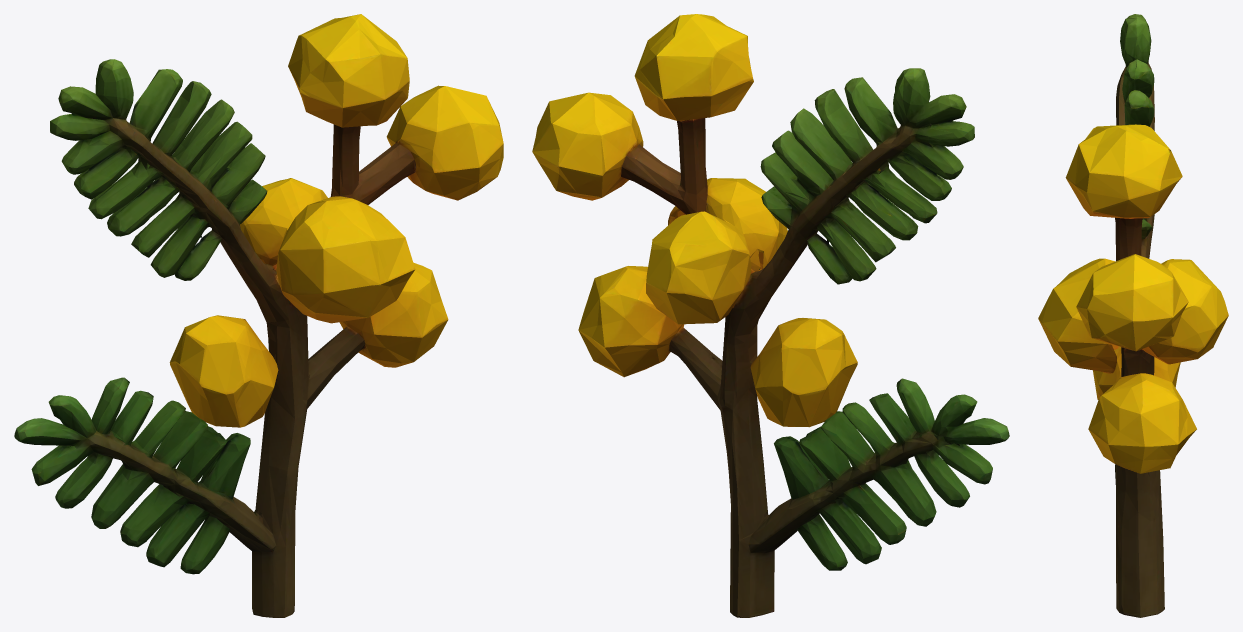
The model's file is acacia_blossom.glb.
3 views of the same model, side by side, from view 1: azimuth 30°, elevation 25°; view 2: azimuth 150°, elevation 25°; view 3: azimuth 270°, elevation 25° (orthographic). The views are drawn at different scales.
Visible parts, largest first — view 1: world; view 2: world; view 3: world.
Boxes of the visible parts, <box> form: world: <box>14,14,503,617</box>; world: <box>532,14,1009,617</box>; world: <box>1038,14,1228,617</box>.
Bounding box in the file's own units: 0.8556 × 0.9991 × 0.3308.
1 material, 1 textured.
